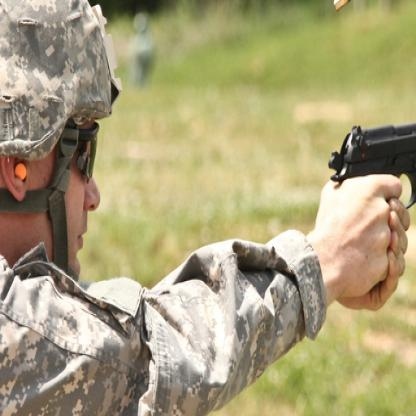gun: (325, 99, 415, 212)
